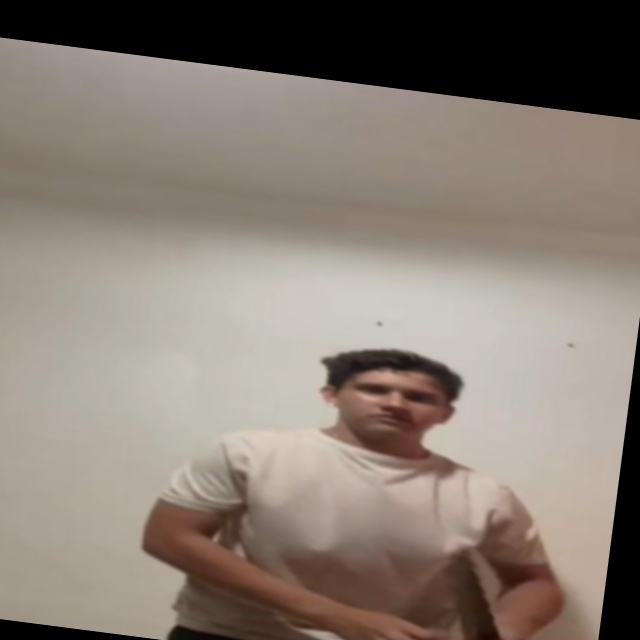Sharp-Object: (444, 552, 504, 640)
